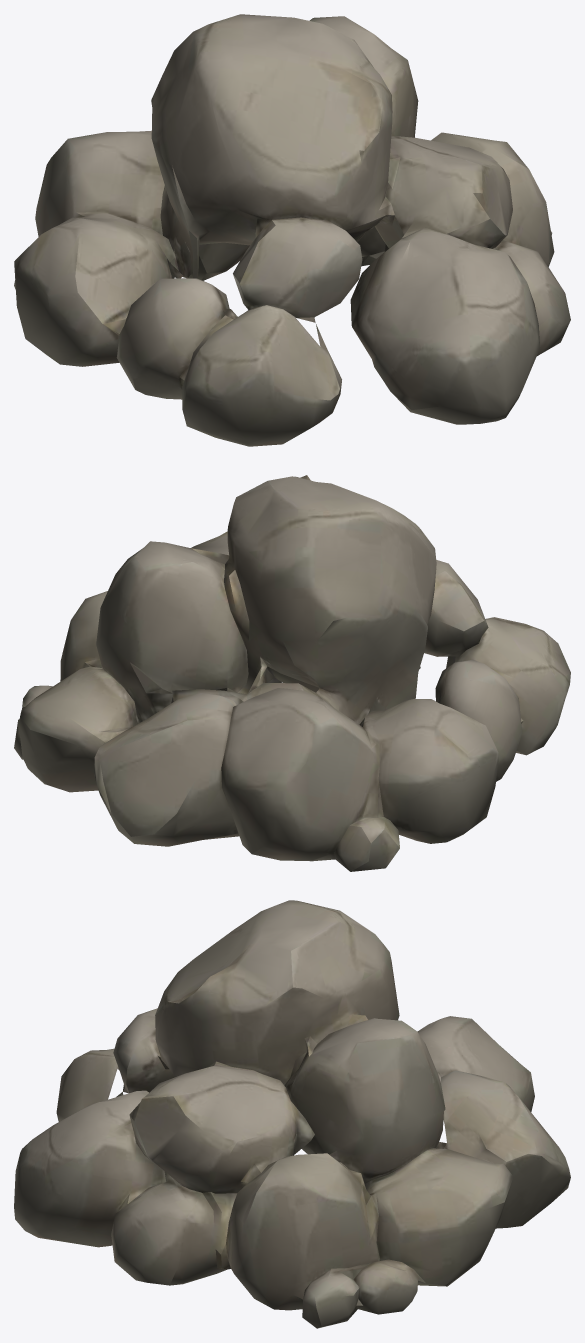
Rendered from RockPale.glb.
The picture shows the model from 3 angles, top to bottom: view 1: azimuth 30°, elevation 25°; view 2: azimuth 150°, elevation 25°; view 3: azimuth 270°, elevation 25°; orthographic projection. The views are drawn at different scales.
Visible parts, largest first — view 1: RockPale; view 2: RockPale; view 3: RockPale.
Part boxes in pixels (bbox=[...]): RockPale: bbox=[14, 14, 570, 446]; RockPale: bbox=[14, 475, 570, 871]; RockPale: bbox=[14, 900, 570, 1328].
Bounding box in the file's own units: 1.81 × 1.06 × 1.92.
1 material, 1 textured.
